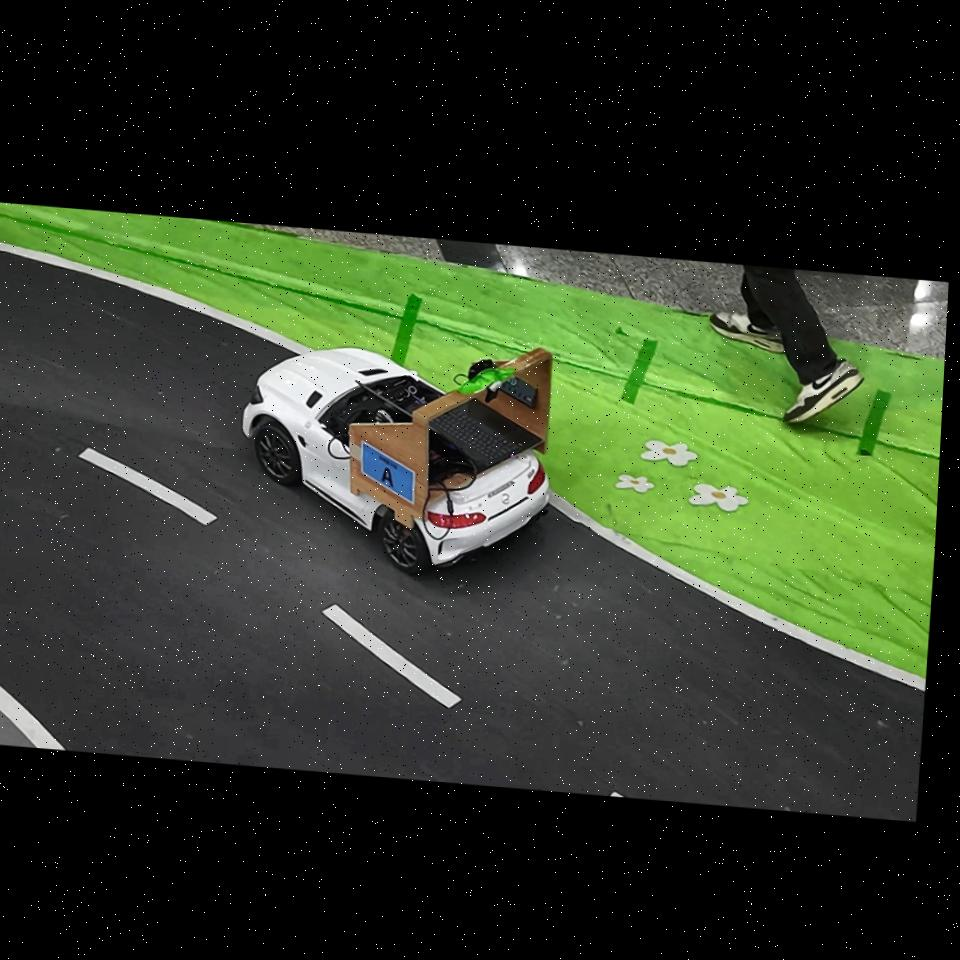broken_line: (321, 604, 462, 709), (78, 448, 218, 525), (609, 792, 625, 797)
